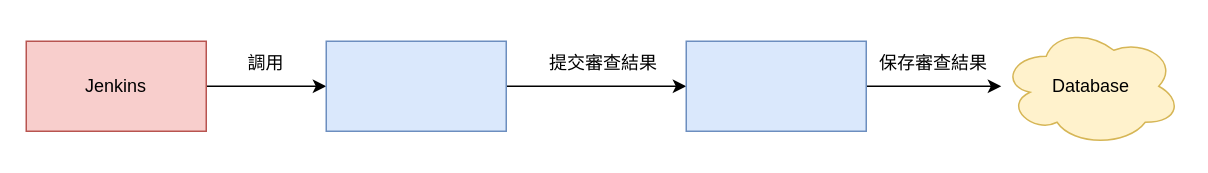
Some shapes in this 1208 by 173 pixel diagram are drawn without their labels. Each missing label, with the centre of its shape:
Sonar-Scanner: the point at 415,85
SonarQube: the point at 775,85
